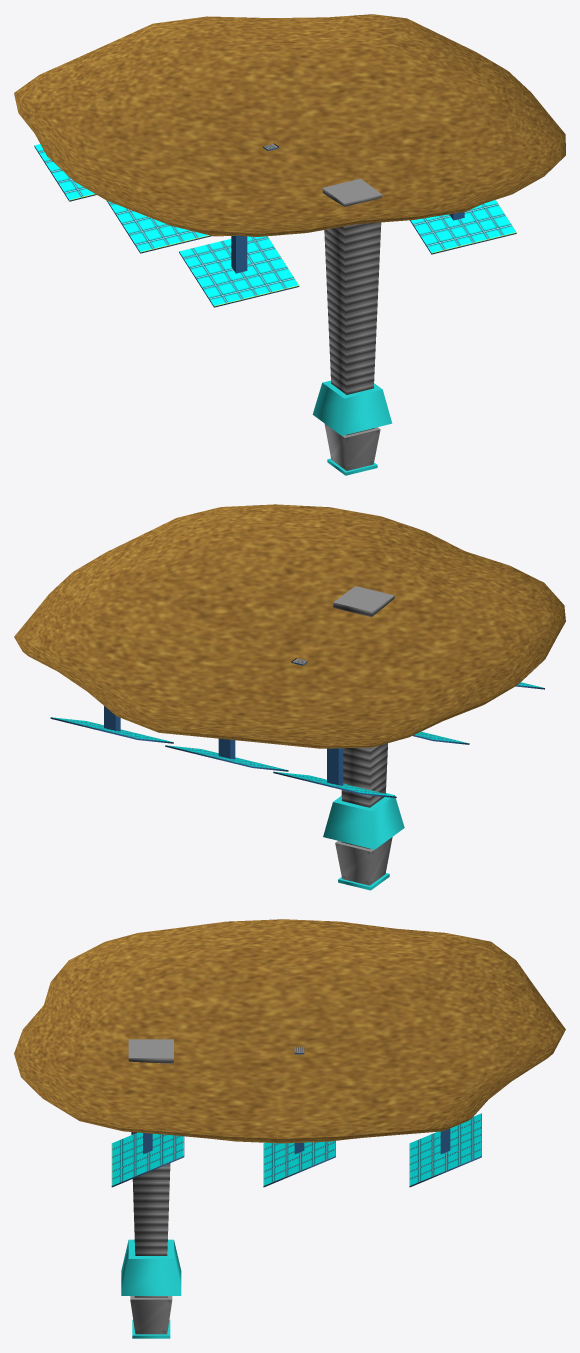
Rendered from SolarFarm_old.FBX.
3 renders of one model, top to bottom at view 1: azimuth 30°, elevation 25°; view 2: azimuth 150°, elevation 25°; view 3: azimuth 270°, elevation 25°, orthographic. The views are drawn at different scales.
Visible parts, largest first — view 1: Sphere001, Box002, Box020, Box022, Box017, Box012; view 2: Sphere001, Box002, Box012, Box015, Box016; view 3: Sphere001, Box002, Box016, Box022, Box019.
Boxes of the visible parts, x1,y1,x2,y2 form: Sphere001: (14, 14, 565, 236); Box002: (312, 178, 392, 475); Box020: (179, 235, 299, 307); Box022: (410, 200, 516, 254); Box017: (106, 200, 211, 253); Box012: (34, 144, 96, 201); Sphere001: (14, 504, 565, 748); Box002: (323, 586, 404, 890); Box012: (273, 748, 396, 797); Box015: (165, 738, 288, 771); Box016: (50, 706, 173, 743); Sphere001: (14, 919, 565, 1143); Box002: (121, 1039, 181, 1338); Box016: (409, 1113, 481, 1187); Box022: (111, 1132, 184, 1187); Box019: (263, 1141, 335, 1187).
Bounding box in the file's own units: 229 × 149 × 243.
